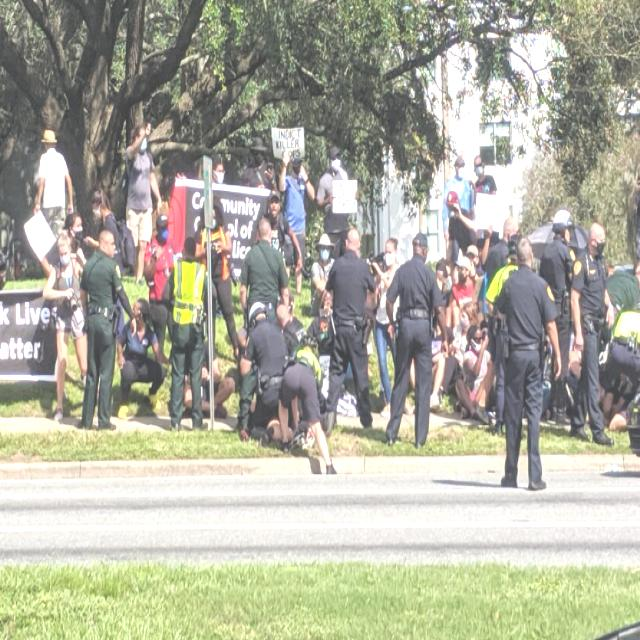police: (487, 221, 553, 505), (150, 225, 222, 446), (228, 212, 291, 437), (391, 224, 446, 465), (80, 218, 135, 450), (565, 213, 612, 443), (325, 227, 373, 436)
